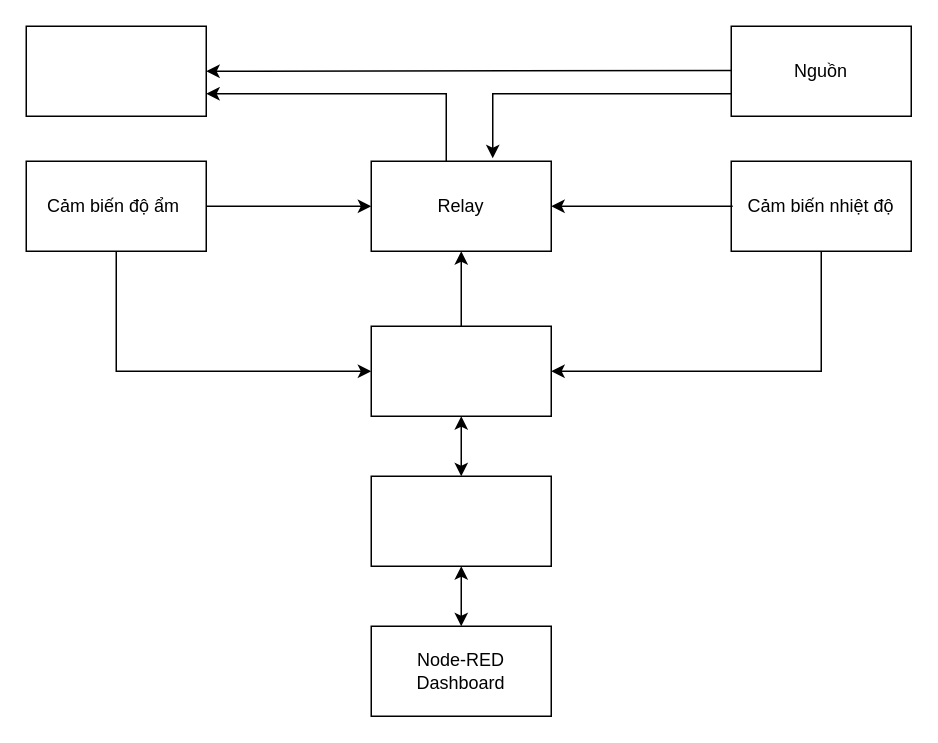
This 938x743 diagram has some shape labels left out. Here are the shapes that lost their labels. From the top down, the centre of each, then its label:
At (x=115, y=70): "Máy bơm".
At (x=460, y=370): "ESP32".
At (x=460, y=520): "MQTT Broker".
